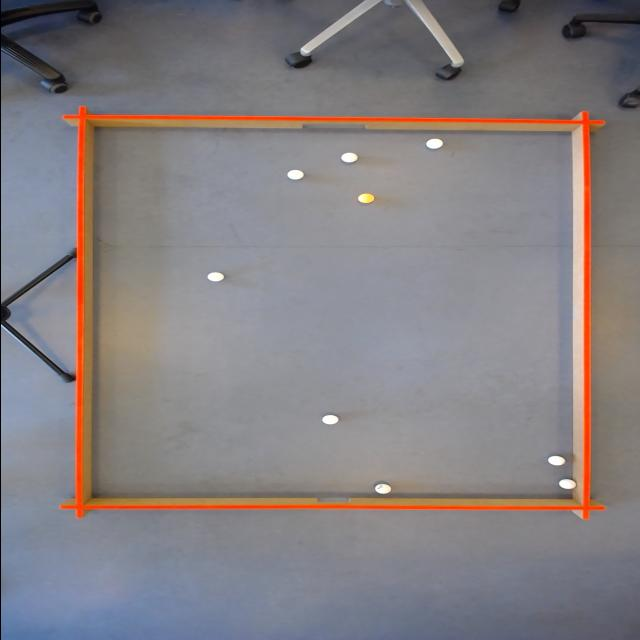orange_ball: (355, 192, 379, 204)
white_ball: (370, 482, 394, 497), (283, 168, 307, 182), (316, 414, 342, 426), (202, 271, 228, 283), (421, 138, 446, 150), (544, 454, 568, 466), (556, 478, 578, 491), (338, 152, 360, 164)
